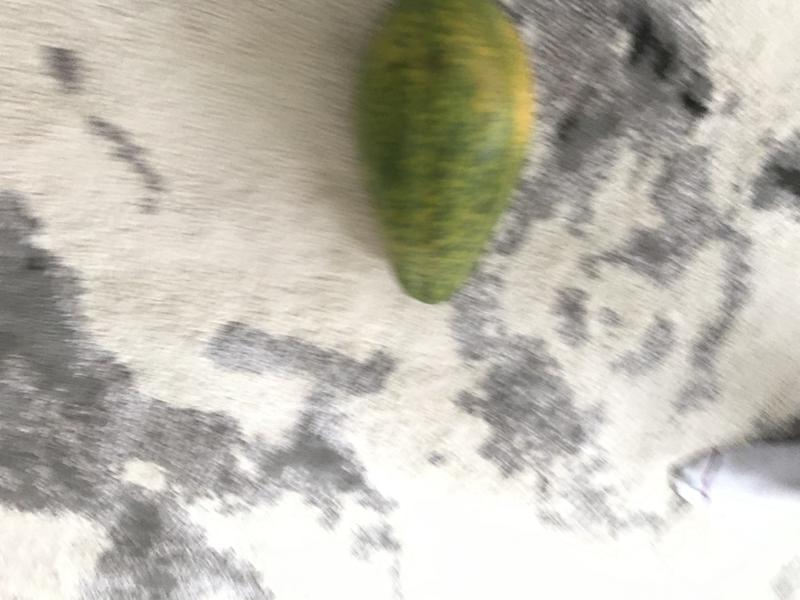papaya: (348, 1, 537, 313)
